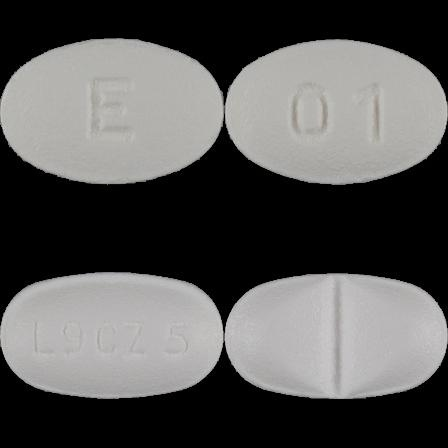54868-1980: (0, 0, 224, 224)
